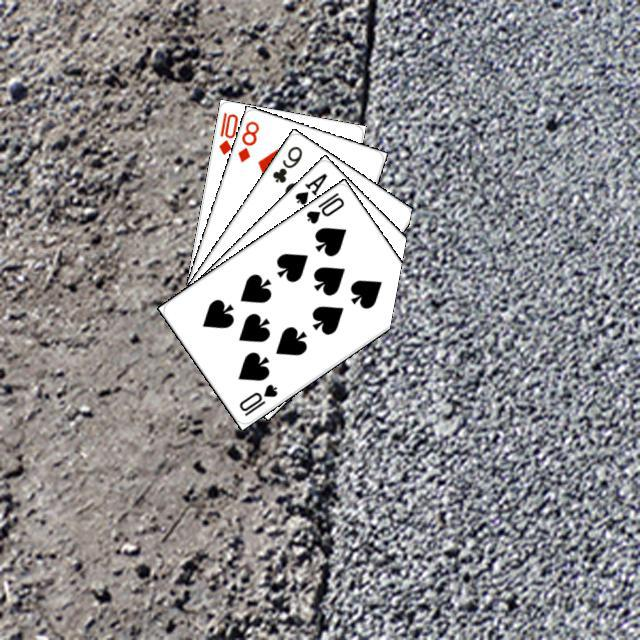10d: (214, 107, 240, 156)
10s: (301, 187, 346, 226), (234, 379, 279, 417)
8d: (233, 116, 261, 164)
9c: (267, 141, 304, 185)
As: (290, 168, 329, 207)
